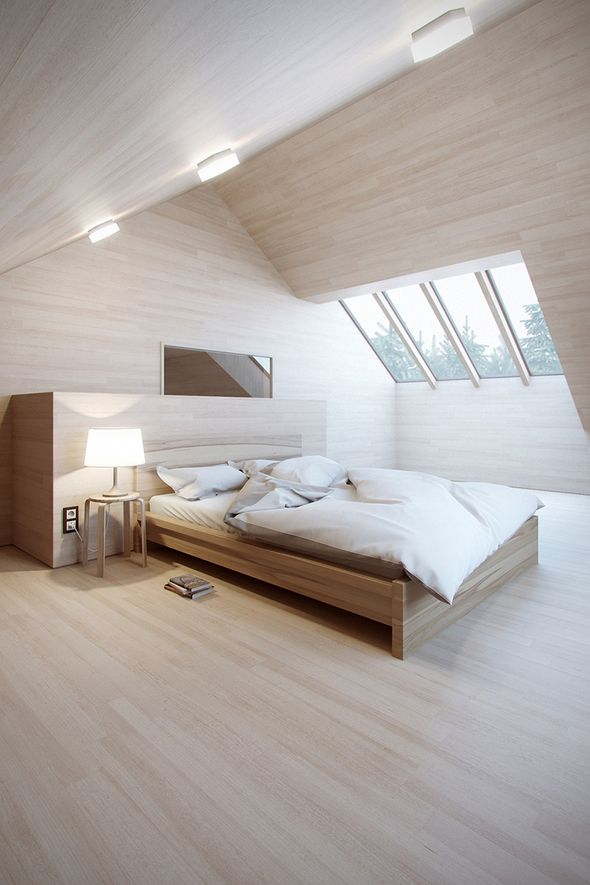床: (140, 470, 548, 632)
枕头: (152, 455, 345, 505)
灯: (397, 2, 478, 61), (81, 422, 145, 496), (195, 141, 239, 182), (83, 219, 120, 246)
